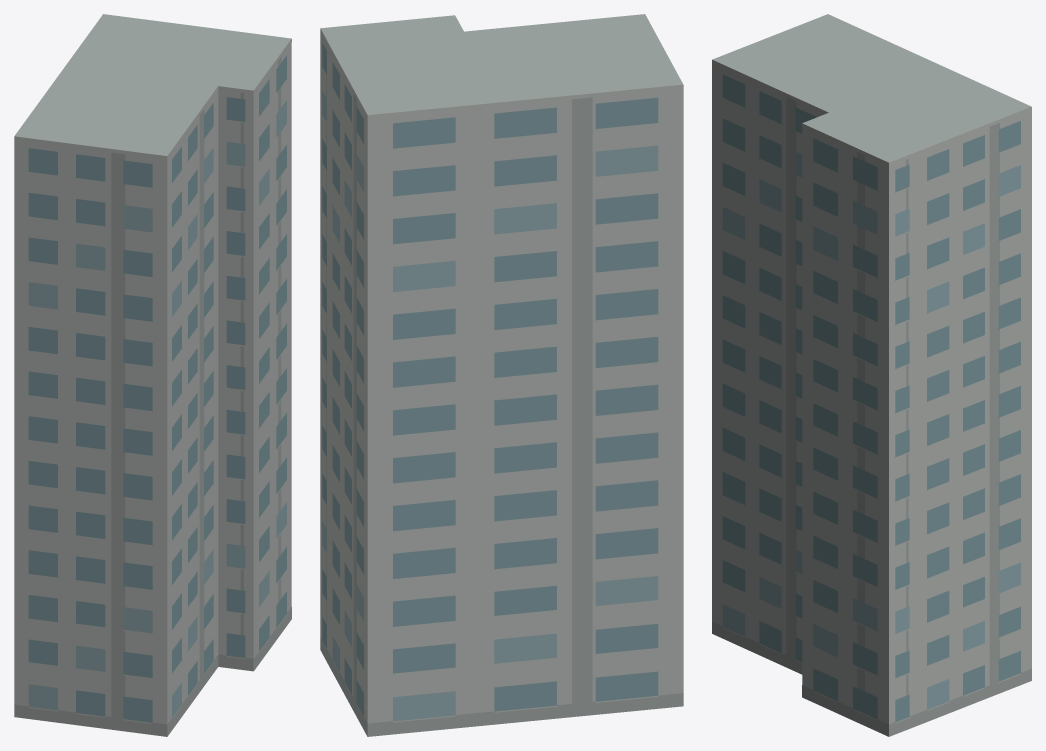
File: residential-0448c90a-6788-4935-a32b-72e2b79598cf.glb
3 renders of one model, left to right at view 1: azimuth 30°, elevation 25°; view 2: azimuth 150°, elevation 25°; view 3: azimuth 270°, elevation 25°, orthographic. The views are drawn at different scales.
Visible parts, largest first — view 1: residential-0448c90a-6788-4935-a32b-72e2b79598cf.tmp; view 2: residential-0448c90a-6788-4935-a32b-72e2b79598cf.tmp; view 3: residential-0448c90a-6788-4935-a32b-72e2b79598cf.tmp.
Boxes of the visible parts, left/top/right/bottom form: residential-0448c90a-6788-4935-a32b-72e2b79598cf.tmp: left=14, top=14, right=291, bottom=736; residential-0448c90a-6788-4935-a32b-72e2b79598cf.tmp: left=320, top=14, right=683, bottom=736; residential-0448c90a-6788-4935-a32b-72e2b79598cf.tmp: left=712, top=14, right=1031, bottom=736.
Size of the model in its own units: 21.68 by 39 by 19.69.
